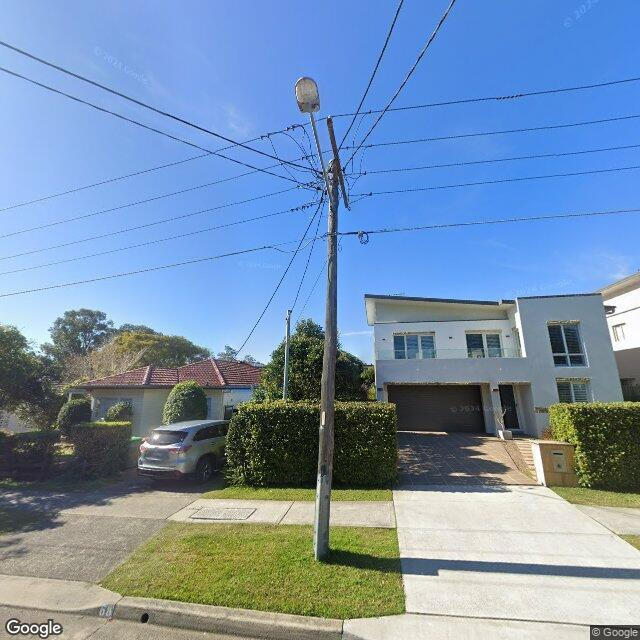crossarm: (326, 116, 352, 210)
steel-pole: (282, 310, 290, 397)
streetlight: (295, 77, 335, 205)
timber-pole: (312, 159, 339, 559)
